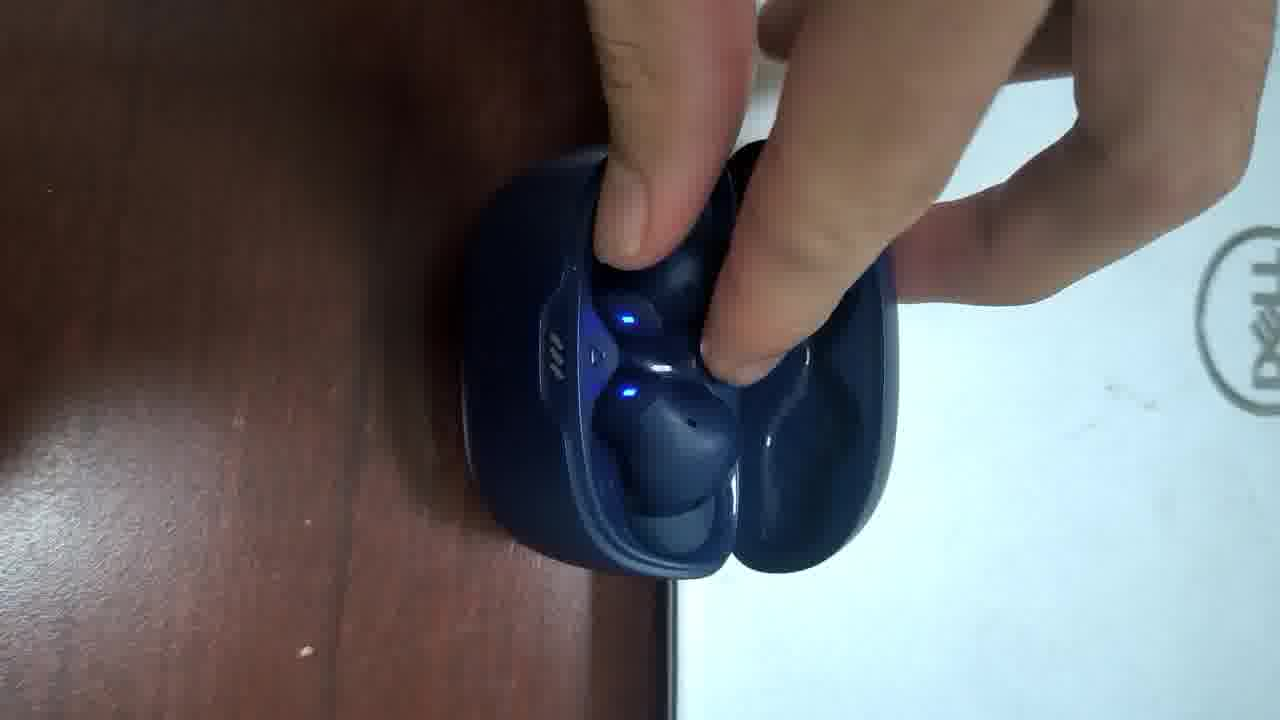Earbud: (591, 185, 741, 555), (593, 373, 738, 516)
